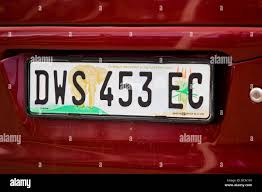number_plate: (18, 49, 242, 140)
